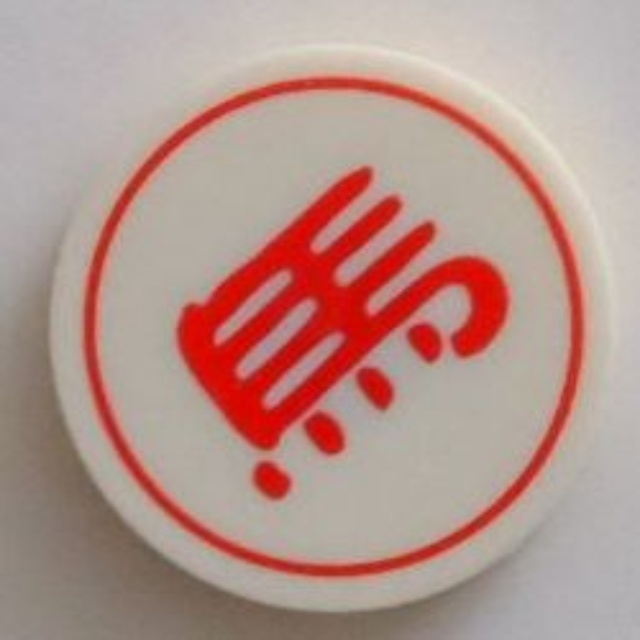red_ma: (42, 37, 627, 621)
